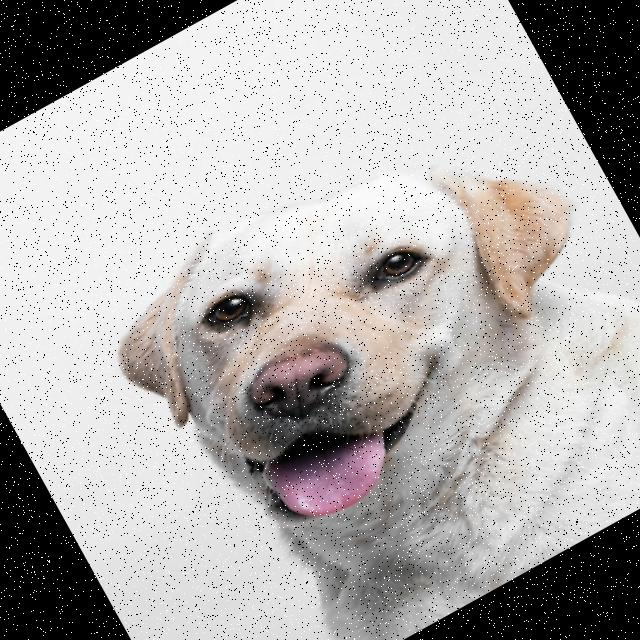Dog: (83, 49, 640, 640)
